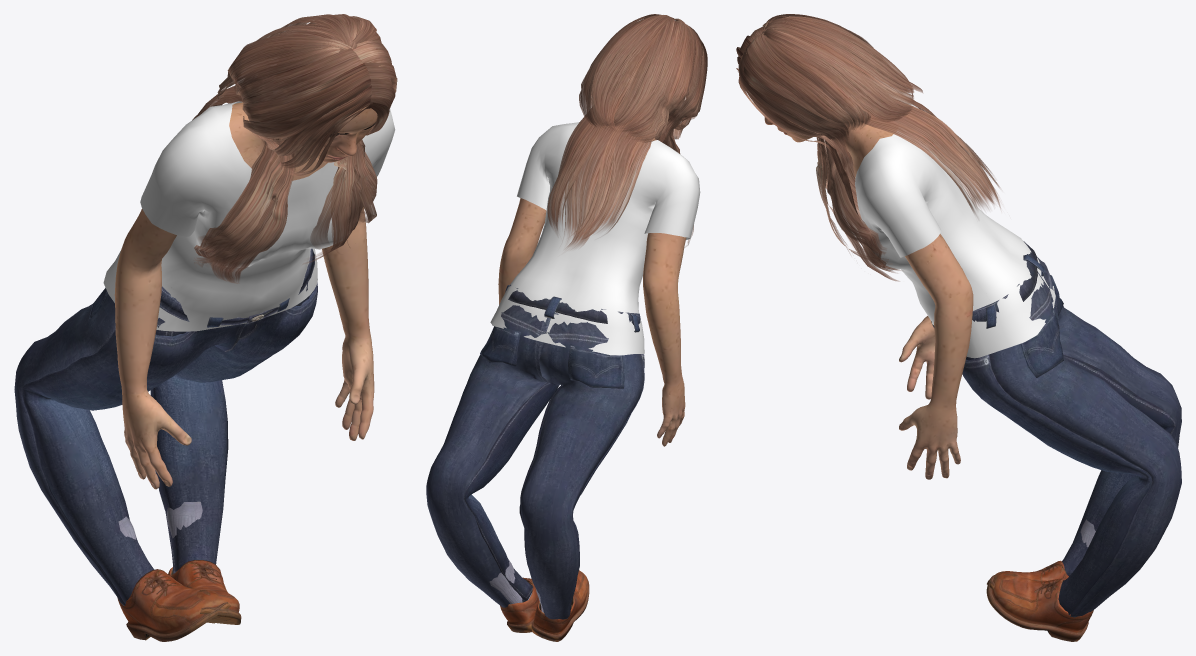
File: donna-05.glb
3 renders of one model, left to right at view 1: azimuth 30°, elevation 25°; view 2: azimuth 150°, elevation 25°; view 3: azimuth 270°, elevation 25°, orthographic. The views are drawn at different scales.
Visible parts, largest first — view 1: Human.punkduck_female_tight_jeans, Human.elvs_daisy_hair, Human.joepal_crude_t-shirt_female, Human, Human.shoes01; view 2: Human.punkduck_female_tight_jeans, Human.joepal_crude_t-shirt_female, Human.elvs_daisy_hair, Human, Human.shoes01; view 3: Human.punkduck_female_tight_jeans, Human.elvs_daisy_hair, Human.joepal_crude_t-shirt_female, Human, Human.shoes01.
Part boxes in pixels (bbox=[...]): Human.punkduck_female_tight_jeans: bbox=[14, 248, 317, 605]; Human.elvs_daisy_hair: bbox=[192, 14, 397, 283]; Human.joepal_crude_t-shirt_female: bbox=[103, 101, 395, 331]; Human: bbox=[114, 102, 377, 489]; Human.shoes01: bbox=[117, 501, 241, 641]; Human.punkduck_female_tight_jeans: bbox=[426, 284, 644, 619]; Human.joepal_crude_t-shirt_female: bbox=[490, 122, 700, 355]; Human.elvs_daisy_hair: bbox=[547, 14, 707, 249]; Human: bbox=[498, 53, 686, 446]; Human.shoes01: bbox=[489, 559, 589, 641]; Human.punkduck_female_tight_jeans: bbox=[931, 241, 1181, 617]; Human.elvs_daisy_hair: bbox=[736, 14, 1000, 281]; Human.joepal_crude_t-shirt_female: bbox=[855, 97, 1055, 358]; Human: bbox=[764, 103, 973, 479]; Human.shoes01: bbox=[986, 519, 1095, 641].
Bounding box in the file's own units: 0.435 × 1.23 × 0.8173.
13 materials, 13 textured.
